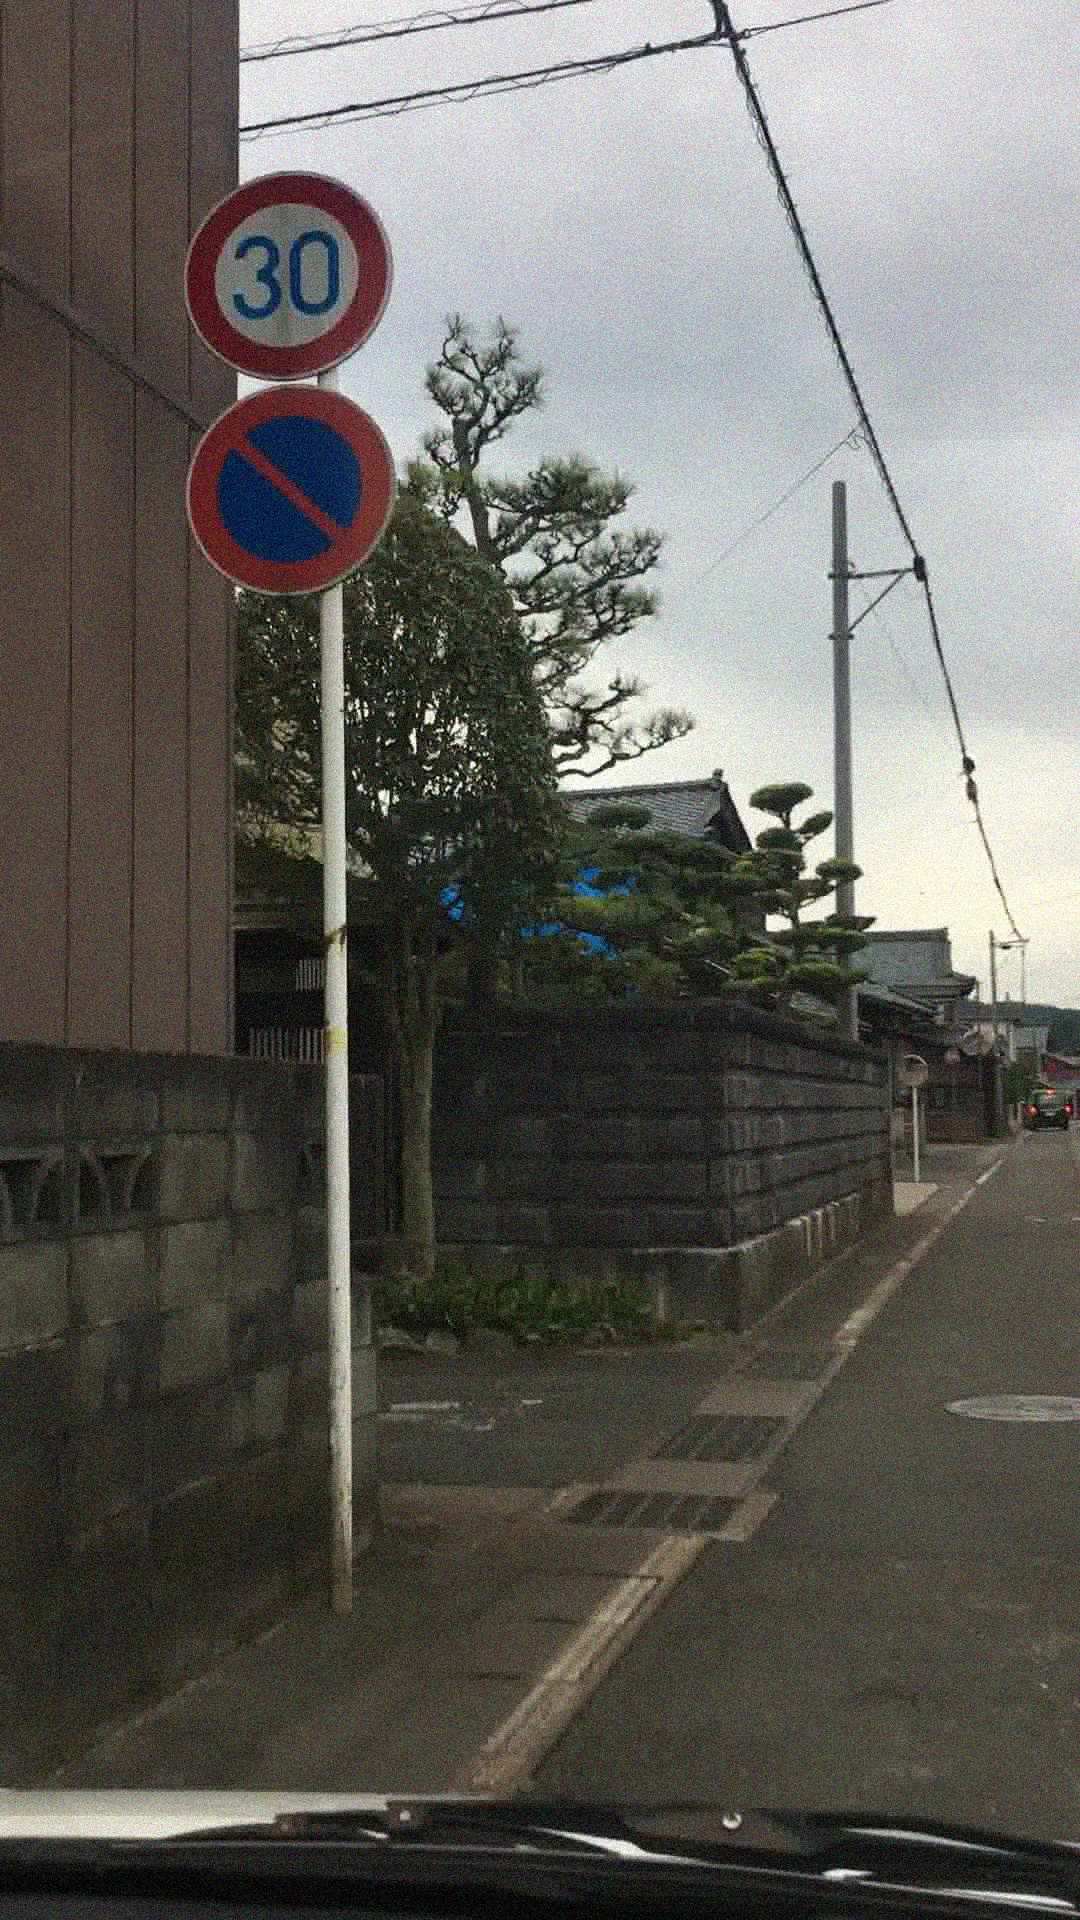Prohibition_sign: (175, 384, 450, 620)
Speed_sign: (186, 186, 414, 382)
